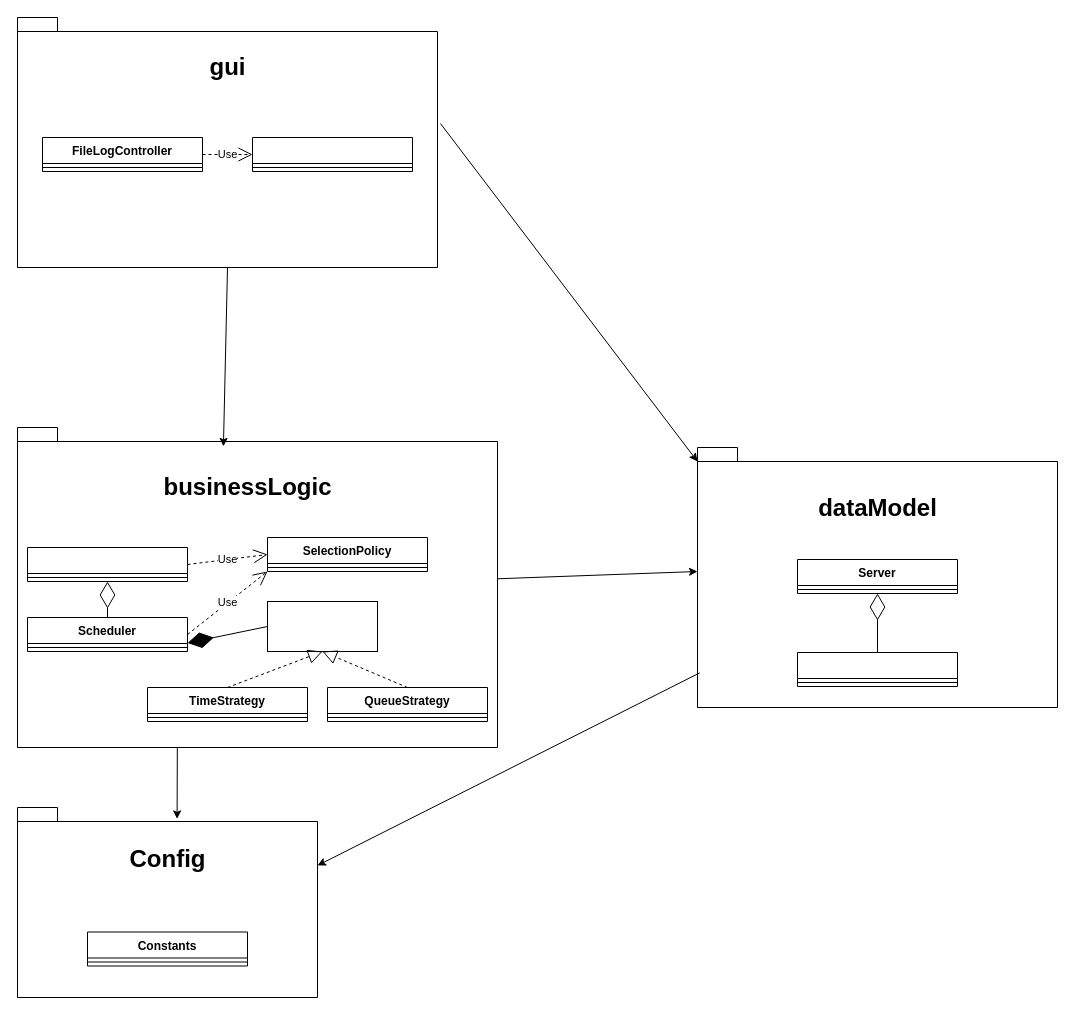
The diagram is 1075 pixels wide and 1015 high, and some of its shapes have lost their labels. Each missing label, with the centre of its shape:
"AlertController" belongs at [332,154].
"SimulationManager" belongs at [107,564].
"Task" belongs at [877,669].
"«interface» Strategy" belongs at [322,626].
